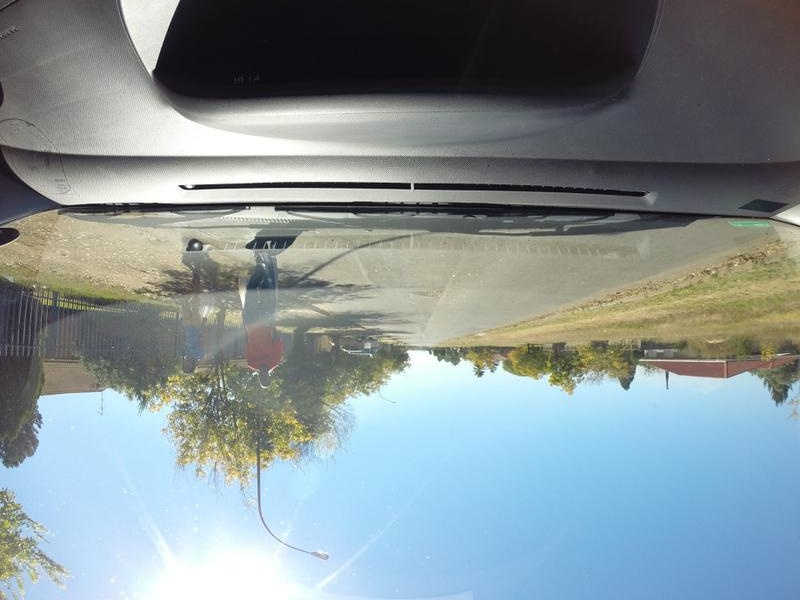pothole: (333, 276, 385, 299), (415, 283, 460, 305)
